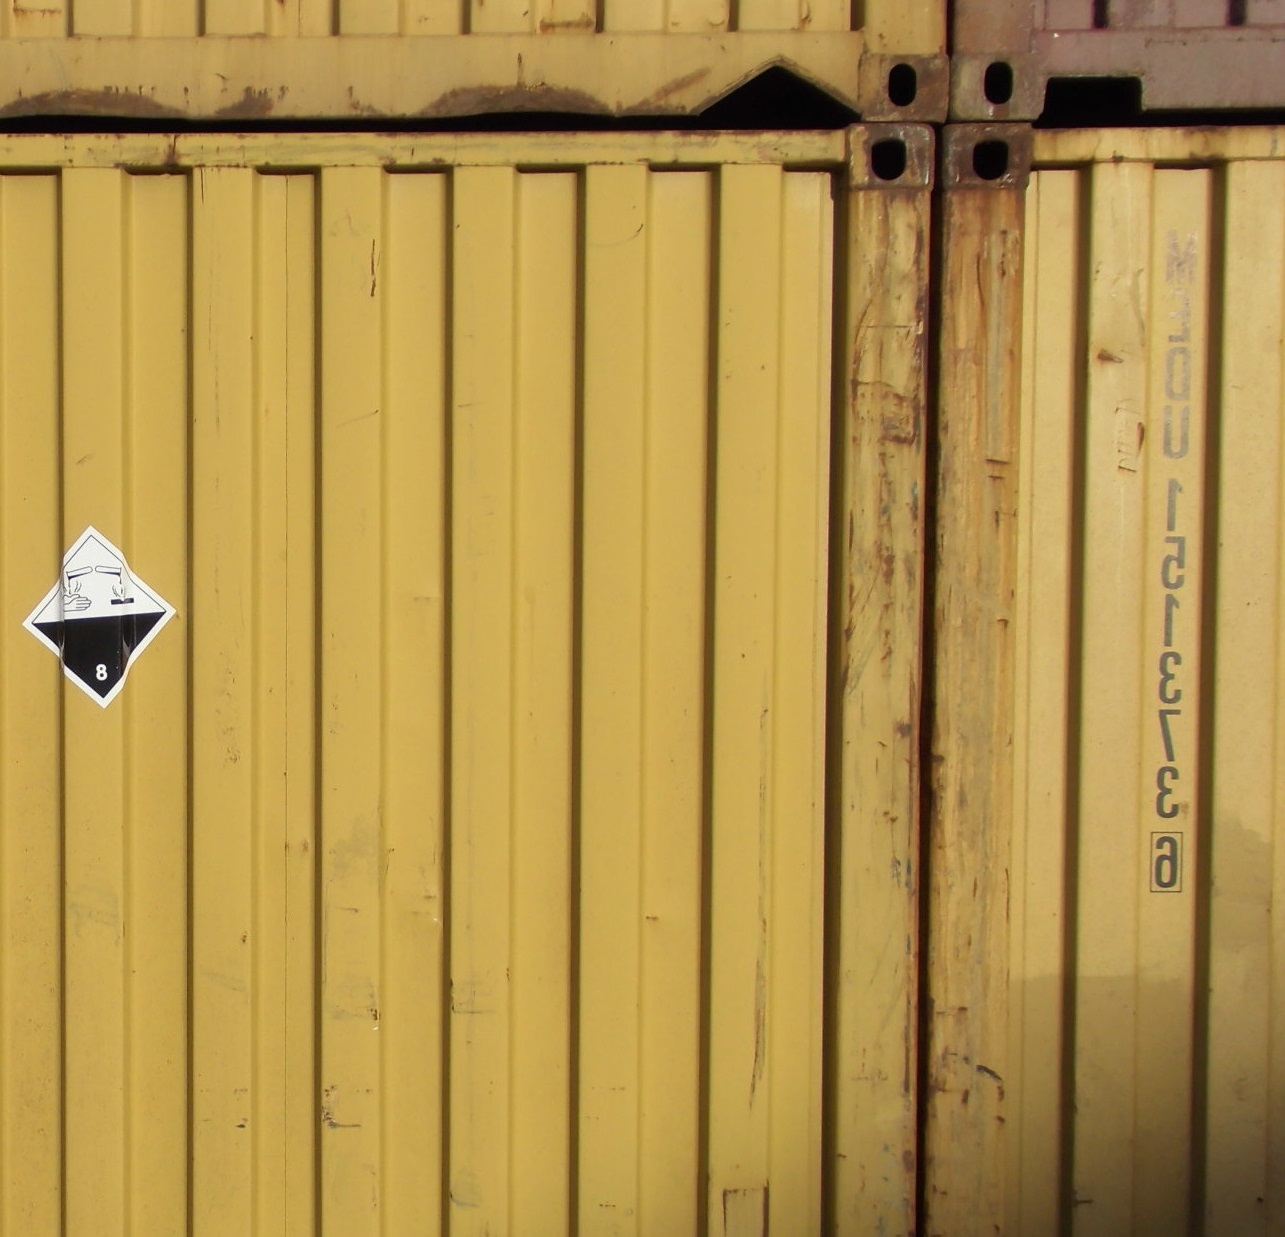container_no_door: (6, 118, 929, 1237), (949, 129, 1277, 1237)
